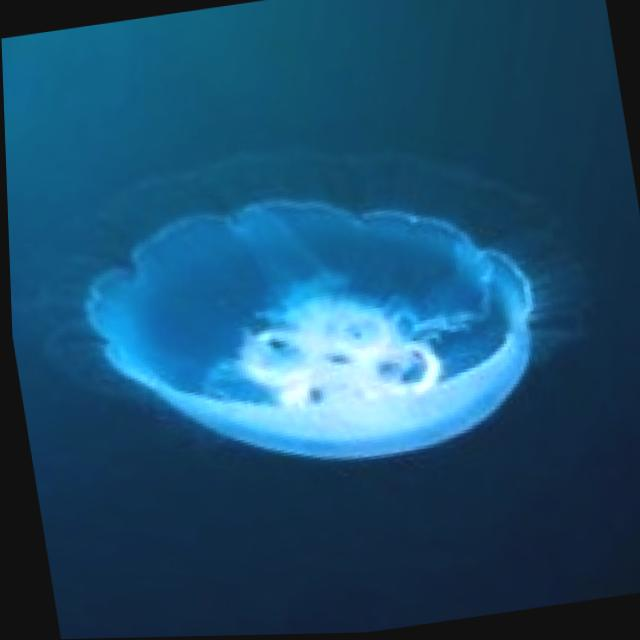Moon-jellyfish: (42, 111, 600, 527)
